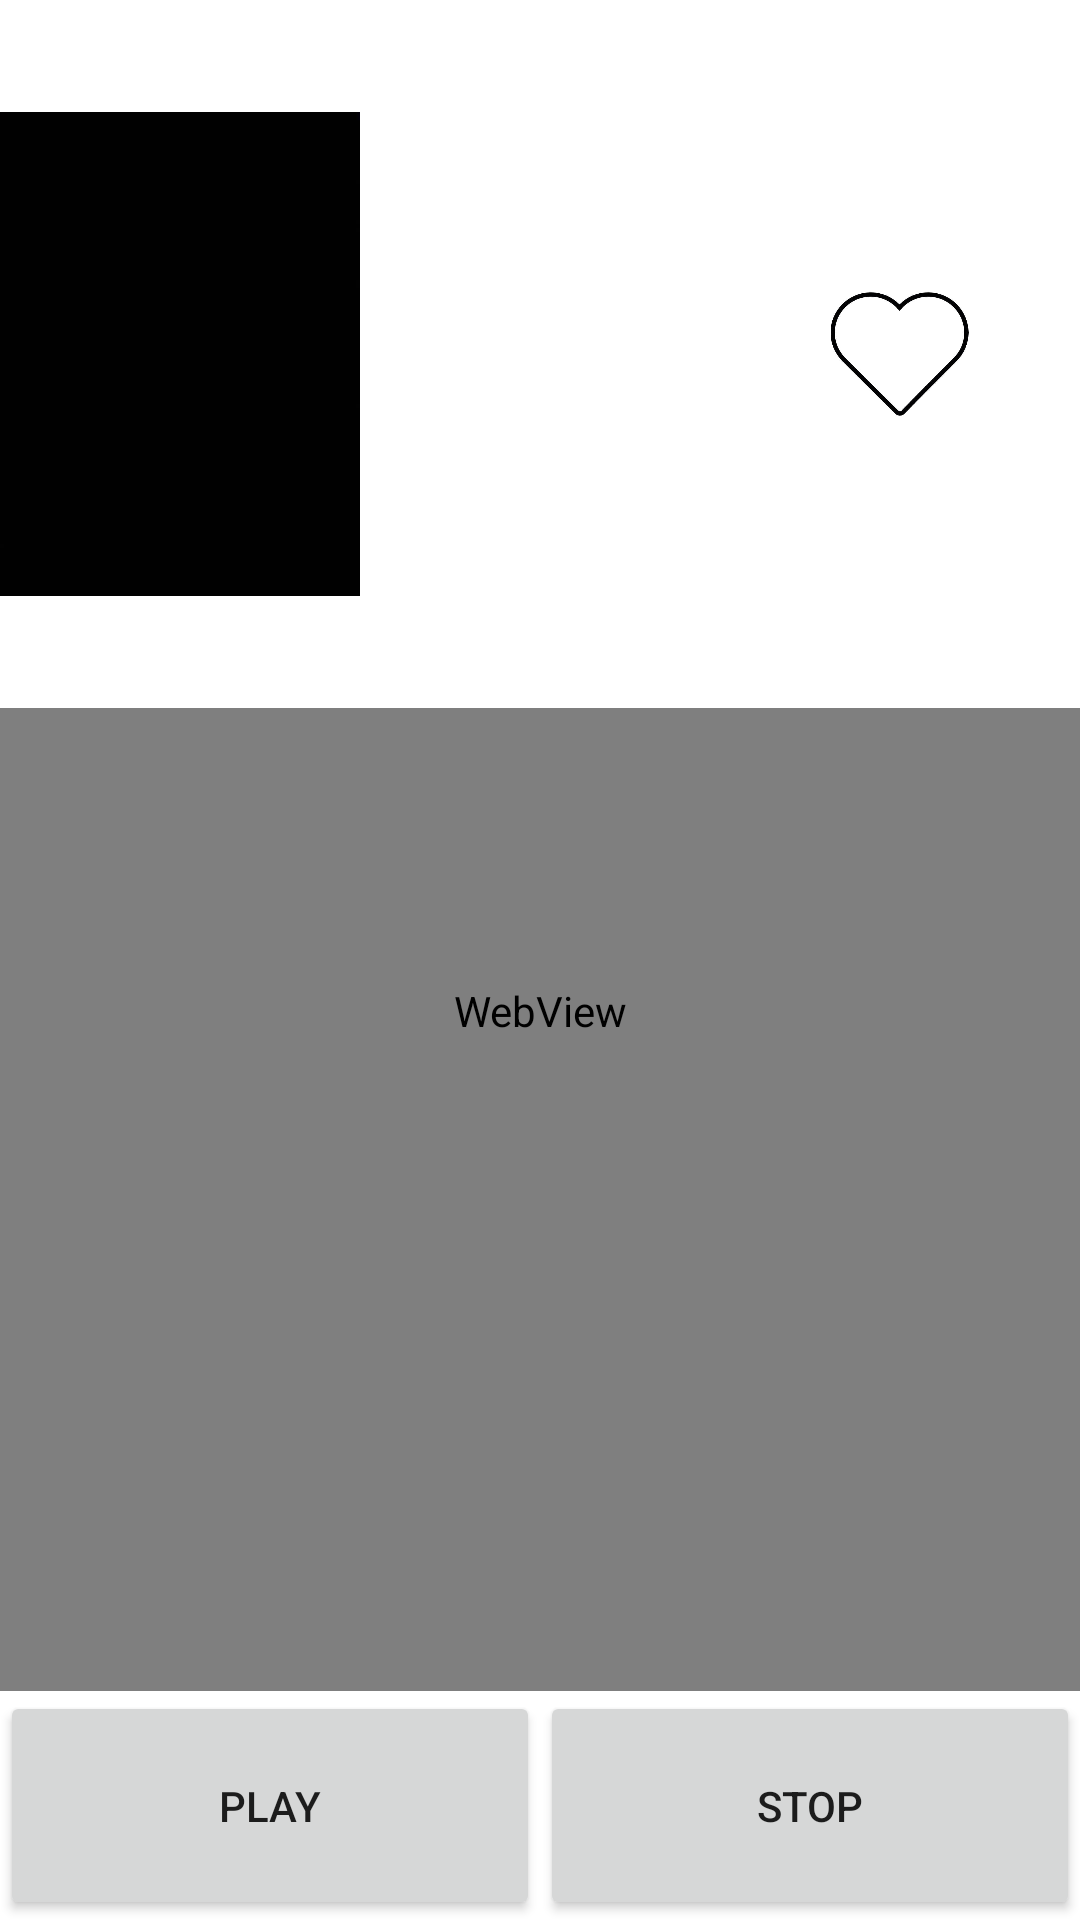

Screen size 1080*1920. Icon name, then its center in pixels as (x=x, y=y):
favoris: (x=900, y=354)
